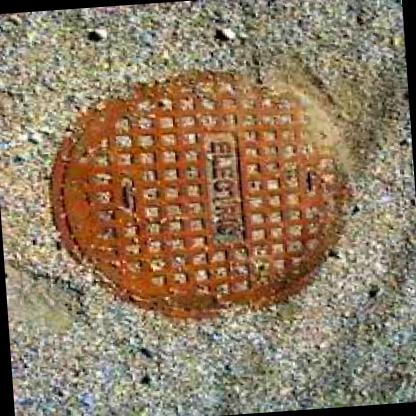manholes: (25, 44, 374, 340)
